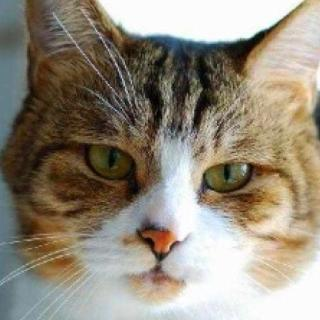cat: (7, 0, 320, 313)
nose: (128, 190, 196, 265)
